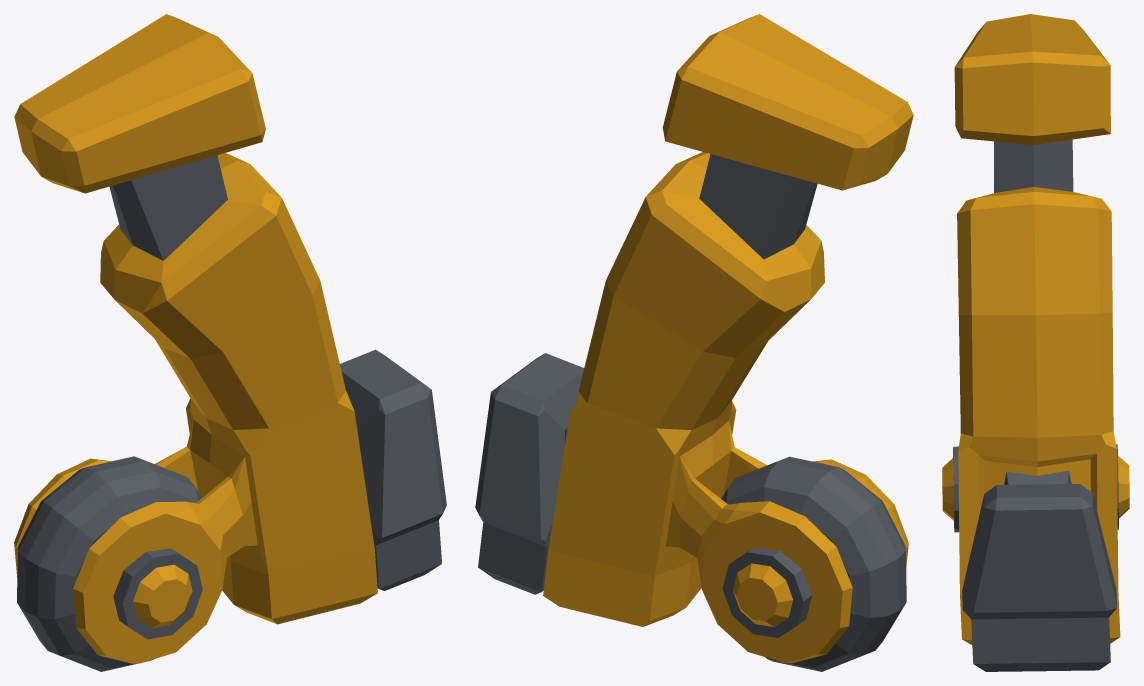
The model's file is Dropship_01_Lander_Yellow.fbx.
3 renders of one model, left to right at view 1: azimuth 30°, elevation 25°; view 2: azimuth 150°, elevation 25°; view 3: azimuth 270°, elevation 25°, orthographic. The views are drawn at different scales.
Visible parts, largest first — view 1: Dropship_01_Lander_Yellow; view 2: Dropship_01_Lander_Yellow; view 3: Dropship_01_Lander_Yellow.
Boxes of the visible parts, x1,y1,x2,y2 form: Dropship_01_Lander_Yellow: [14, 14, 446, 671]; Dropship_01_Lander_Yellow: [475, 14, 913, 671]; Dropship_01_Lander_Yellow: [942, 14, 1129, 671].
Bounding box in the file's own units: 269 × 402 × 120.
Materials: 1 (1 with a texture image).
